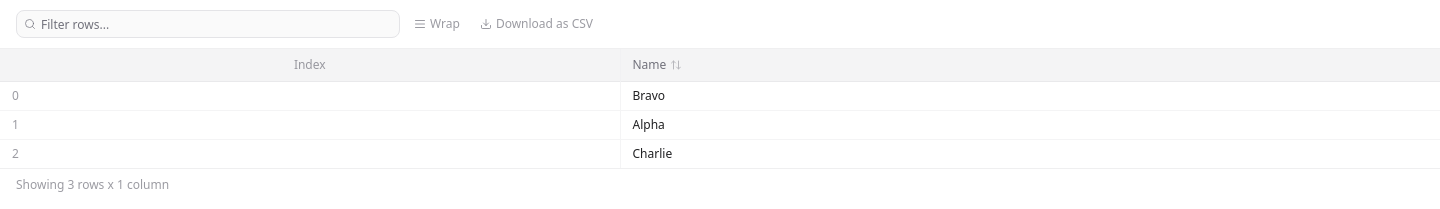
Test: TableViewer › sorts data columns asc/desc and resets to original order
Click the button "Name". click: x=649, y=64
box: [632,57,1428,73]
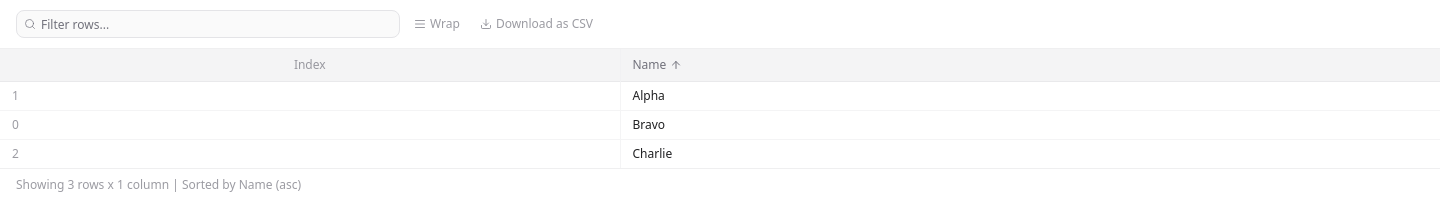
Expected: the row "1 Alpha" is shown, [0,82,1439,110]
Click the button "Name". click: x=649, y=64
box: [632,57,1428,73]
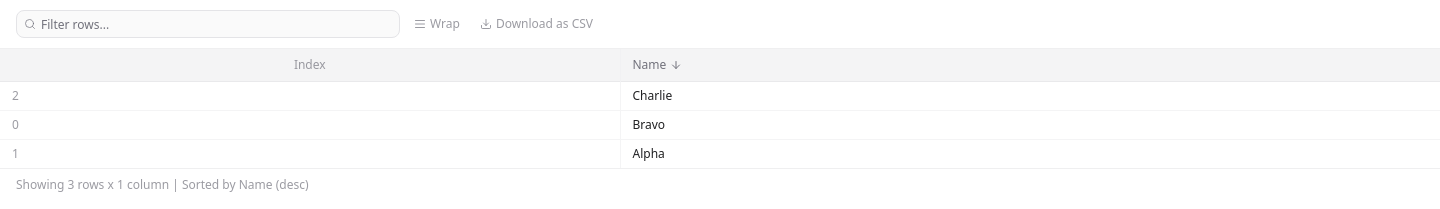
Expected: the row "2 Charlie" is shown, [0,82,1439,110]
Click the button "Name". click: x=649, y=64
box: [632,57,1428,73]
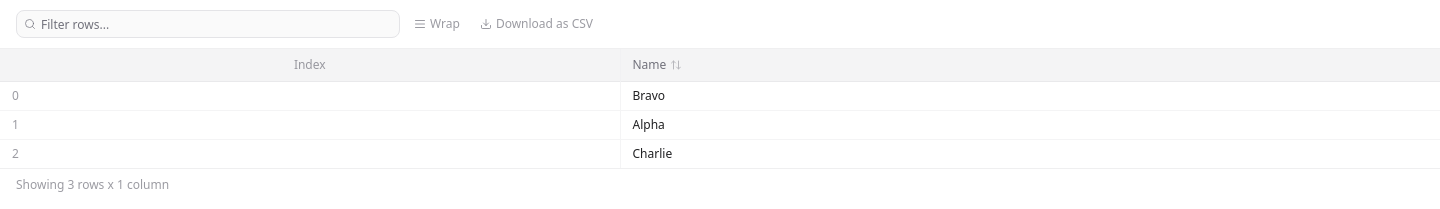
Expected: the row "0 Bravo" is shown, [0,82,1439,110]
